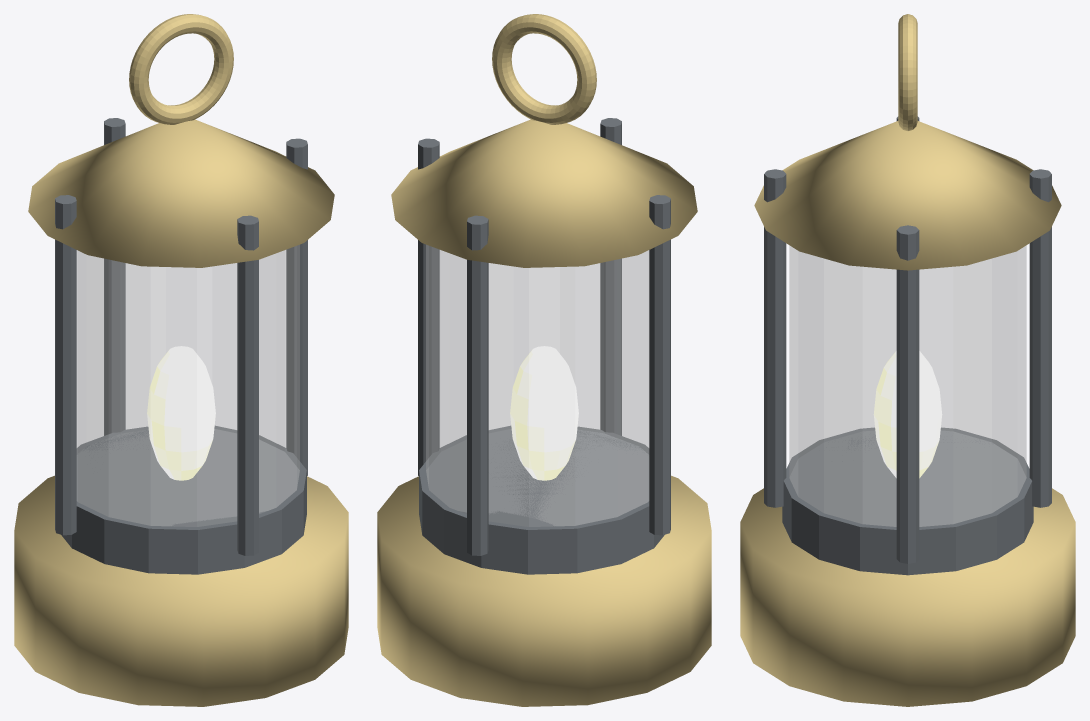
The model's file is expedition_lantern.glb.
The picture shows the model from 3 angles, left to right: view 1: azimuth 30°, elevation 25°; view 2: azimuth 150°, elevation 25°; view 3: azimuth 270°, elevation 25°; orthographic projection.
Visible parts, largest first — view 1: Cylinder.002, Cylinder, Cone, Cylinder.001, Sphere, Cylinder.006, Cylinder.005, Torus, Cylinder.003, Cylinder.004; view 2: Cylinder.002, Cylinder, Cone, Cylinder.001, Sphere, Cylinder.004, Cylinder.005, Torus, Cylinder.003, Cylinder.006; view 3: Cylinder.002, Cylinder, Cone, Cylinder.001, Cylinder.003, Cylinder.004, Cylinder.006, Sphere, Torus.
Part boxes in pixels (x1,y1,x2,y2): Cylinder.002: (77, 245, 299, 526); Cylinder: (14, 475, 348, 706); Cone: (28, 119, 334, 267); Cylinder.001: (61, 425, 306, 574); Sphere: (147, 346, 215, 480); Cylinder.006: (237, 215, 258, 555); Cylinder.005: (55, 195, 76, 535); Torus: (129, 14, 233, 124); Cylinder.003: (286, 138, 307, 475); Cylinder.004: (104, 118, 125, 435); Cylinder.002: (426, 245, 648, 526); Cylinder: (377, 475, 711, 706); Cone: (391, 119, 697, 267); Cylinder.001: (419, 425, 664, 574); Sphere: (510, 346, 578, 480); Cylinder.004: (467, 215, 488, 555); Cylinder.005: (649, 195, 670, 535); Torus: (492, 14, 596, 124); Cylinder.003: (418, 138, 439, 475); Cylinder.006: (600, 118, 621, 435); Cylinder.002: (789, 246, 1026, 526); Cylinder: (740, 488, 1075, 706); Cone: (754, 121, 1061, 270); Cylinder.001: (782, 427, 1033, 575); Cylinder.003: (896, 225, 919, 563); Cylinder.004: (1029, 169, 1051, 507); Cylinder.006: (764, 169, 786, 507); Sphere: (873, 351, 942, 478); Torus: (898, 14, 917, 130).
Size of the model in its own units: 0.24 by 0.487 by 0.24.
